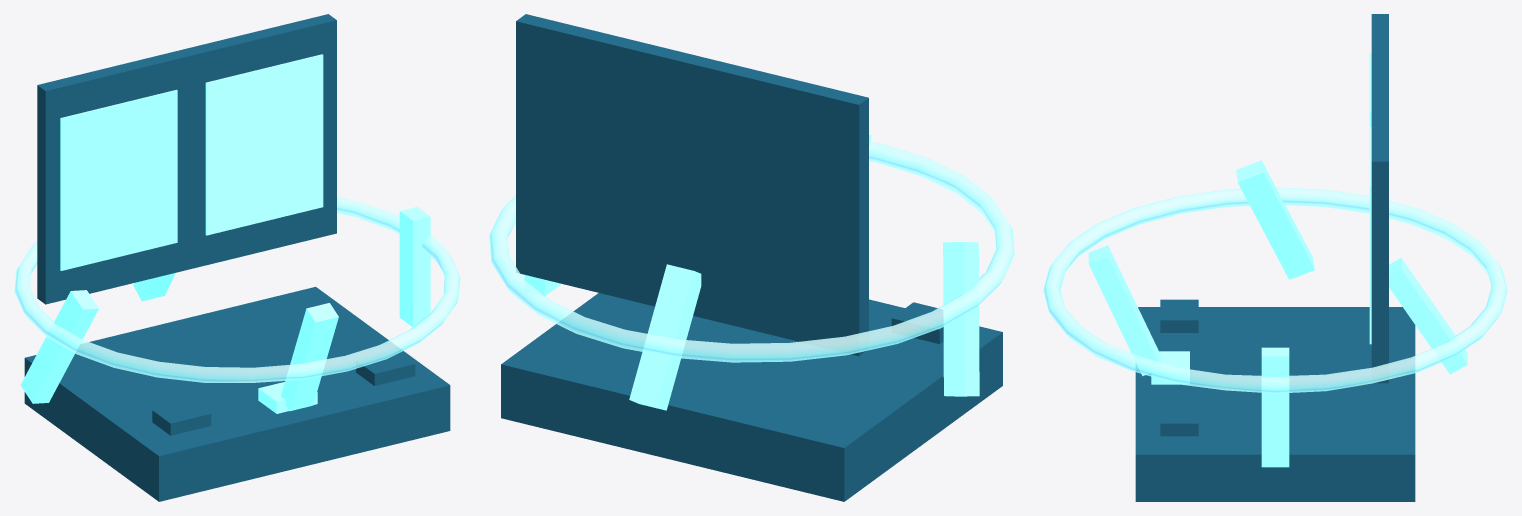
File: command-console.medium.glb
The picture shows the model from 3 angles, left to right: view 1: azimuth 30°, elevation 25°; view 2: azimuth 150°, elevation 25°; view 3: azimuth 270°, elevation 25°; orthographic projection. The views are drawn at different scales.
Parts seen in each view (by area): view 1: command-console-body, screen-0.5, screen--0.5, command-console-emissive, command-console-transparent|#84dfff|#84dfff|0.46|1|0.03|0.82; view 2: command-console-body, command-console-transparent|#84dfff|#84dfff|0.46|1|0.03|0.82, command-console-emissive; view 3: command-console-body, command-console-transparent|#84dfff|#84dfff|0.46|1|0.03|0.82, command-console-emissive, screen-0.5.
Part boxes in pixels (x1,y1,x2,y2): command-console-body: (24, 14, 450, 501); screen-0.5: (205, 54, 323, 235); screen--0.5: (60, 89, 177, 270); command-console-emissive: (20, 207, 430, 413); command-console-transparent|#84dfff|#84dfff|0.46|1|0.03|0.82: (14, 196, 460, 382); command-console-body: (501, 14, 1002, 501); command-console-transparent|#84dfff|#84dfff|0.46|1|0.03|0.82: (489, 141, 1014, 362); command-console-emissive: (524, 135, 979, 410); command-console-body: (1135, 14, 1415, 501); command-console-transparent|#84dfff|#84dfff|0.46|1|0.03|0.82: (1043, 187, 1507, 393); command-console-emissive: (1088, 160, 1467, 467); screen-0.5: (1369, 127, 1371, 344).
Size of the model in its own units: 2.7 by 2.15 by 2.66.
